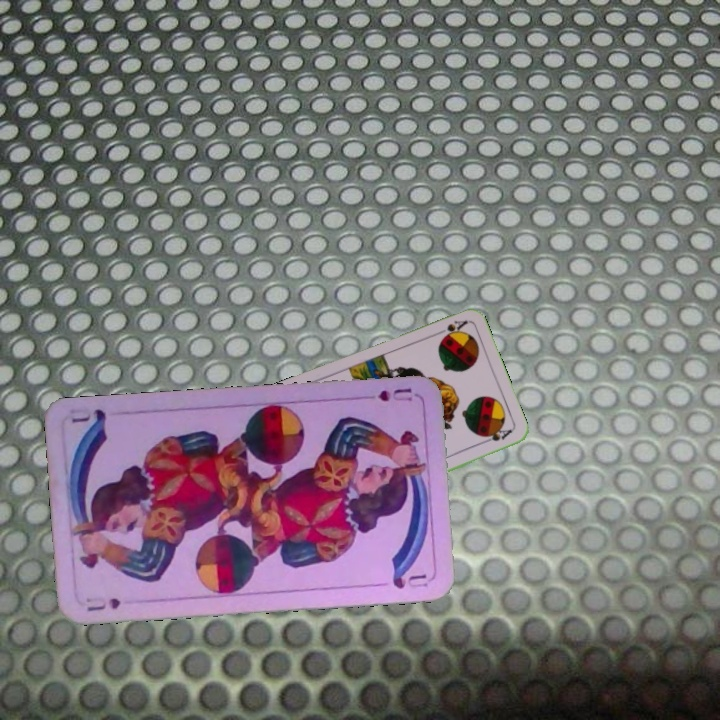SA: (431, 316, 470, 341)
SU: (81, 592, 123, 614), (373, 384, 414, 404)
